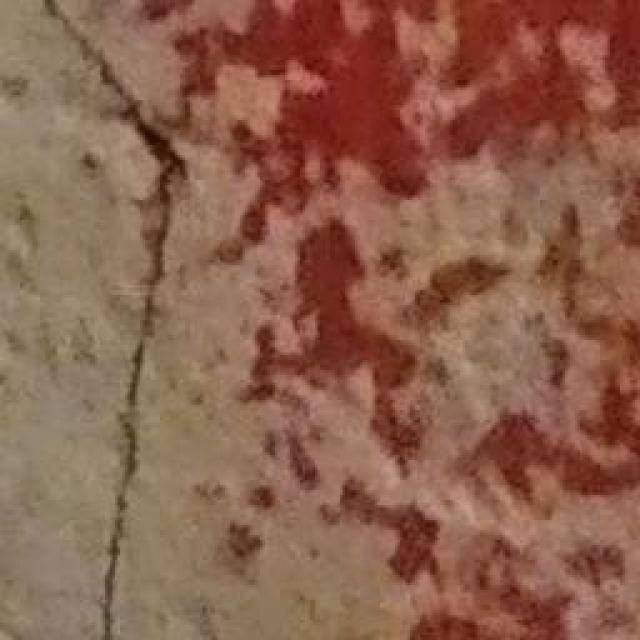Longitudinal: (35, 0, 199, 640)
